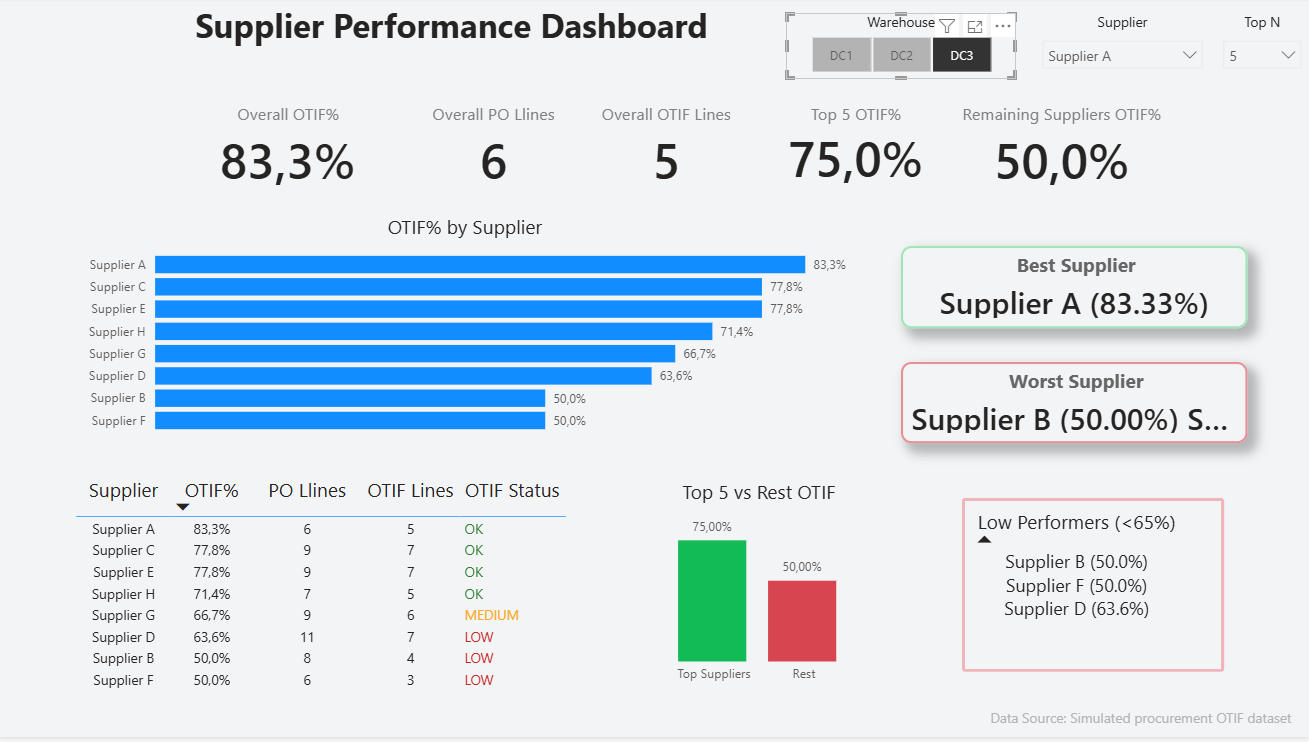

Layout of this report page (visuals, bound fields, positions):
{"tool":"powerbi","page":{"name":"Executive Summary","canvas":[1280,720],"ordinal":0},"visuals":[{"type":"slicer","title":"Supplier","fields":{"Values":["fact_supplier_deliveries.Supplier"]},"box":[1008,16,176,64],"z":0},{"type":"clusteredBarChart","fields":{"Category":["dim_supplier.Supplier"],"Y":["Measures#.OTIF%"]},"box":[79.8,210.1,752.8,224.3],"z":1000},{"type":"cardVisual","title":"Best Supplier","fields":{"Data":["Measures#.Best Supplier"]},"box":[880,242,337,80],"z":2000},{"type":"tableEx","fields":{"Values":["dim_supplier.Supplier","Measures#.OTIF%","Measures#.PO Llines","Measures#.OTIF Lines","Measures#.OTIF Status"]},"box":[71.8,459.3,493.9,252.7],"z":3000},{"type":"tableEx","fields":{"Values":["Measures#.Low OTIF Supplier list"]},"box":[940,487,255,169],"z":4000},{"type":"clusteredColumnChart","fields":{"Category":["Group Table.Group"],"Y":["Measures#.OTIF by Group"]},"box":[580.1,467.6,325,208.5],"z":5000},{"type":"cardVisual","title":"Overall PO Llines","fields":{"Data":["Measures#.PO Llines"]},"box":[388.2,103.3,192,80],"z":6000},{"type":"cardVisual","title":"Overall OTIF Lines","fields":{"Data":["Measures#.OTIF Lines"]},"box":[564.2,103.3,176,80],"z":7000},{"type":"cardVisual","fields":{"Data":["Measures#.OTIF% (TOP3)"]},"box":[724.2,103.3,224,80],"z":8000},{"type":"cardVisual","title":"Remaining Suppliers OTIF%","fields":{"Data":["Measures#.Rest OTIF%"]},"box":[933,103,208,80],"z":9000},{"type":"cardVisual","title":"Overall OTIF%","fields":{"Data":["Measures#.OTIF%"]},"box":[164.2,103.3,240,80],"z":10000},{"type":"textbox","box":[188.3,0,536.7,80],"z":11000},{"type":"slicer","title":"Top N","fields":{"Values":["Top N Table.Value"]},"box":[1184,16,96,64],"z":12000},{"type":"slicer","title":"Warehouse","fields":{"Values":["fact_supplier_deliveries.Plant"]},"box":[768,16,224,64],"z":13000},{"type":"cardVisual","title":"Worst Supplier","fields":{"Data":["Measures#.Worst Supplier"]},"box":[880,355,337,79],"z":14000},{"type":"textbox","box":[962,687,306,33],"z":15000}]}

Visuals, with their boxes in screenshot pixels (x1, y1, x2, y2), scaled from the page's 1280x720 canvas onto the 1309x742 screenshot:
"Supplier" slicer: BBox(1031, 16, 1211, 82)
clusteredBarChart - dim_supplier.Supplier x Measures#.OTIF%: BBox(82, 217, 851, 448)
"Best Supplier" cardVisual: BBox(900, 249, 1245, 332)
tableEx - dim_supplier.Supplier x Measures#.OTIF%: BBox(73, 473, 579, 734)
tableEx - Measures#.Low OTIF Supplier list: BBox(961, 502, 1222, 676)
clusteredColumnChart - Group Table.Group x Measures#.OTIF by Group: BBox(593, 482, 926, 697)
"Overall PO Llines" cardVisual: BBox(397, 106, 593, 189)
"Overall OTIF Lines" cardVisual: BBox(577, 106, 757, 189)
cardVisual - Measures#.OTIF% (TOP3): BBox(741, 106, 970, 189)
"Remaining Suppliers OTIF%" cardVisual: BBox(954, 106, 1167, 189)
"Overall OTIF%" cardVisual: BBox(168, 106, 413, 189)
textbox: BBox(193, 0, 741, 82)
"Top N" slicer: BBox(1211, 16, 1308, 82)
"Warehouse" slicer: BBox(785, 16, 1014, 82)
"Worst Supplier" cardVisual: BBox(900, 366, 1245, 447)
textbox: BBox(984, 708, 1297, 741)
